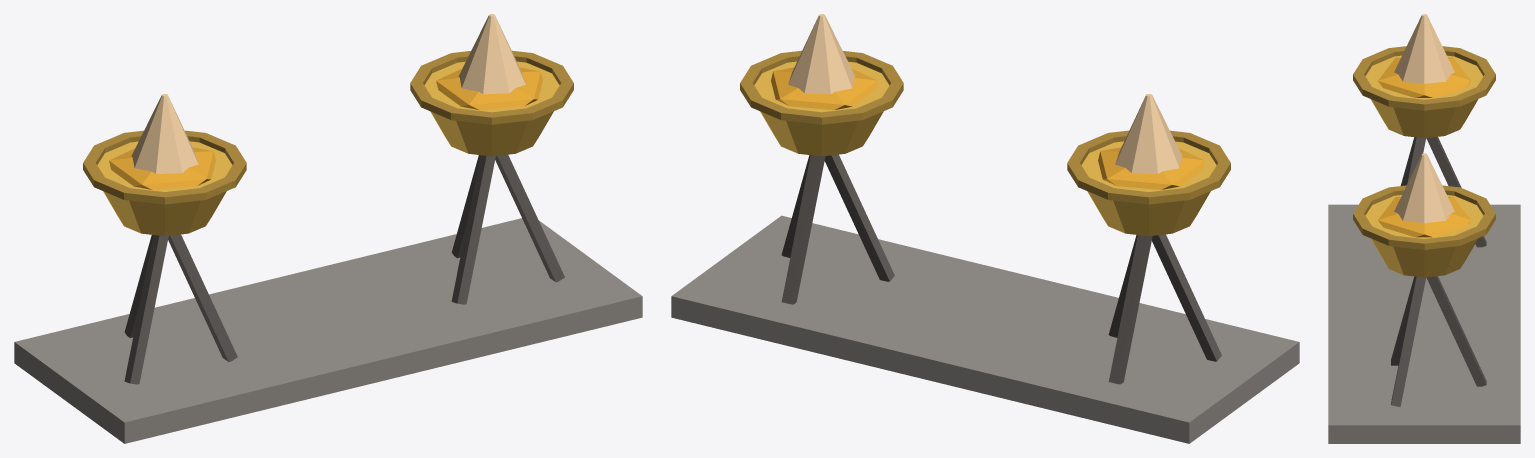
File: CatCafe_Decor_BrazierPair.glb
3 renders of one model, left to right at view 1: azimuth 30°, elevation 25°; view 2: azimuth 150°, elevation 25°; view 3: azimuth 270°, elevation 25°, orthographic. The views are drawn at different scales.
Visible parts, largest first — view 1: CatCafe_Decor_BrazierPair, CatCafe_Decor_BrazierPair_Glow; view 2: CatCafe_Decor_BrazierPair, CatCafe_Decor_BrazierPair_Glow; view 3: CatCafe_Decor_BrazierPair, CatCafe_Decor_BrazierPair_Glow.
Boxes of the visible parts, <box> form: CatCafe_Decor_BrazierPair: <box>14,50,642,443</box>; CatCafe_Decor_BrazierPair_Glow: <box>109,14,542,189</box>; CatCafe_Decor_BrazierPair: <box>671,50,1299,443</box>; CatCafe_Decor_BrazierPair_Glow: <box>771,14,1204,189</box>; CatCafe_Decor_BrazierPair: <box>1328,46,1520,443</box>; CatCafe_Decor_BrazierPair_Glow: <box>1378,14,1470,237</box>.
Size of the model in its own units: 3.8 by 2 by 1.4.
Materials: 1 (1 with a texture image).
